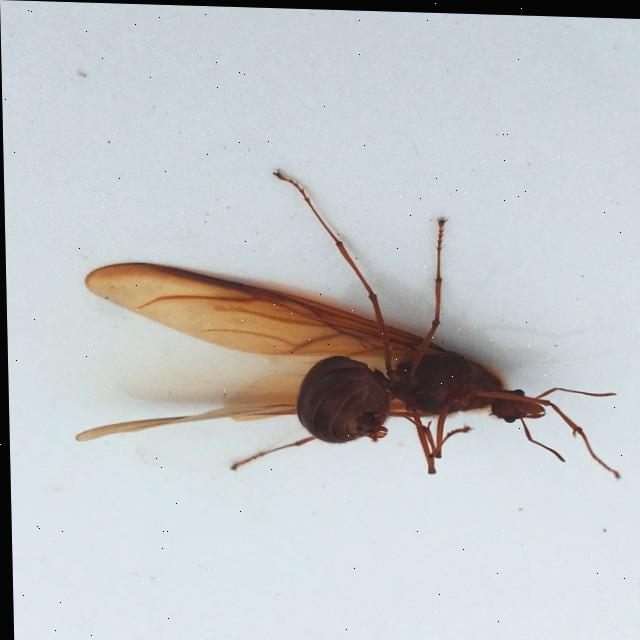Dead-Male-Alate: (68, 162, 620, 482)
